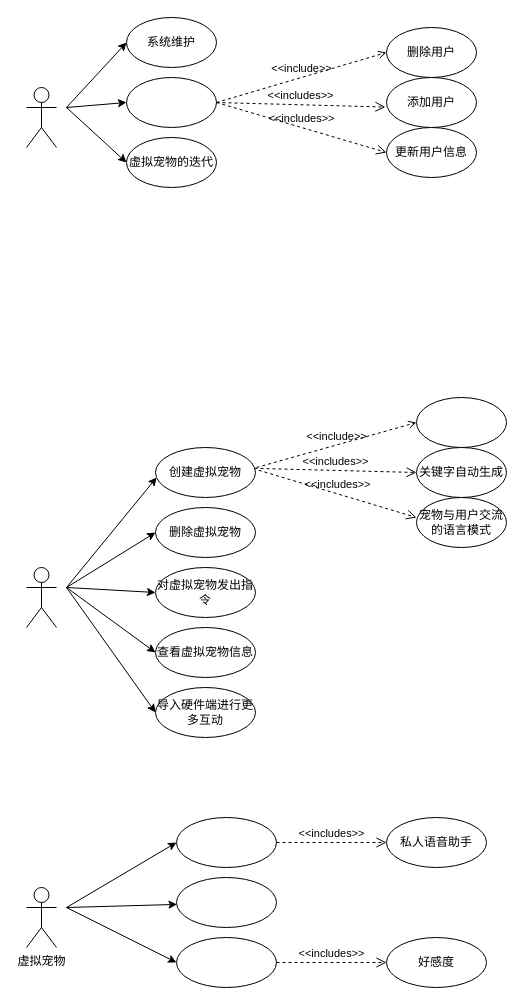
This 524x1005 diagram has some shape labels left out. Here are the shapes that lost their labels. From the top down, the centre of each, then its label:
pixel 41 117: 管理员
pixel 171 102: 删除和添加用户
pixel 461 422: 选择喜好特点
pixel 41 597: 用户
pixel 226 842: 语音互动
pixel 226 902: 视觉效果
pixel 226 962: 游戏
